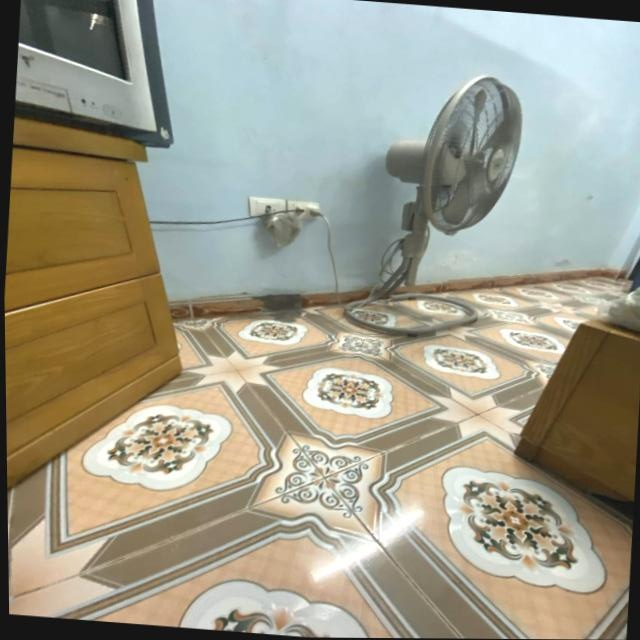outlet: (248, 196, 287, 220), (287, 199, 323, 221)
